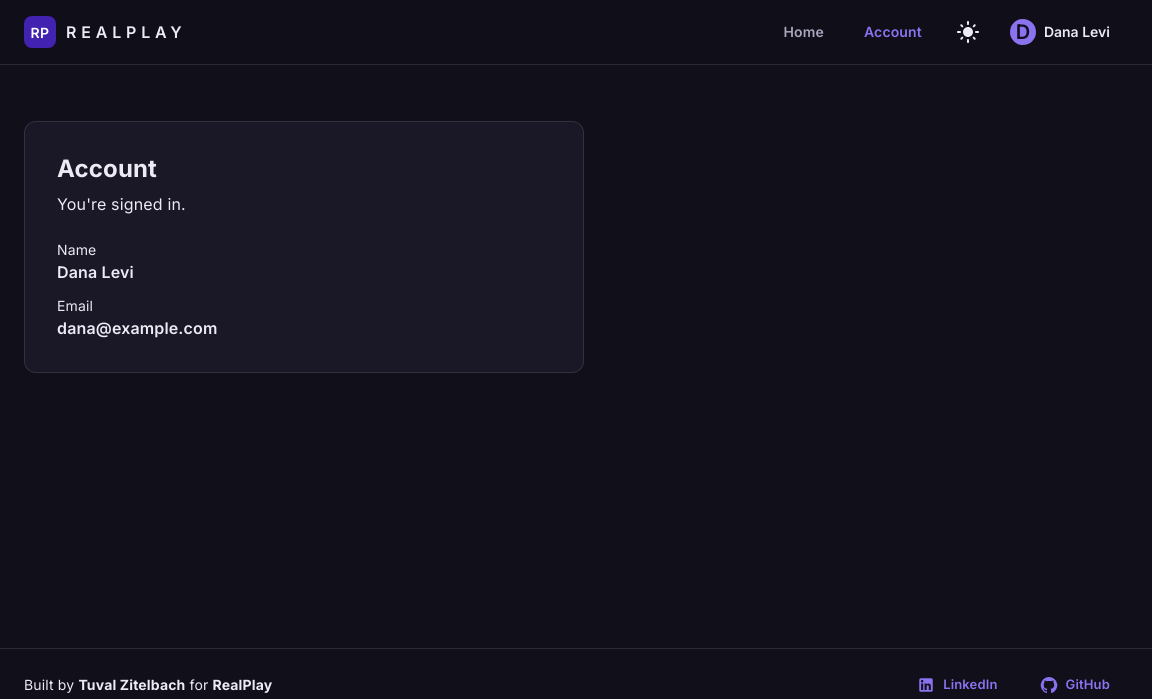
Test: signed in › shows the user in the header and signs out
The width and height of the screenshot is (1152, 699).
Click the button "D Dana Levi": point(1062, 32) [996,13,1128,51]
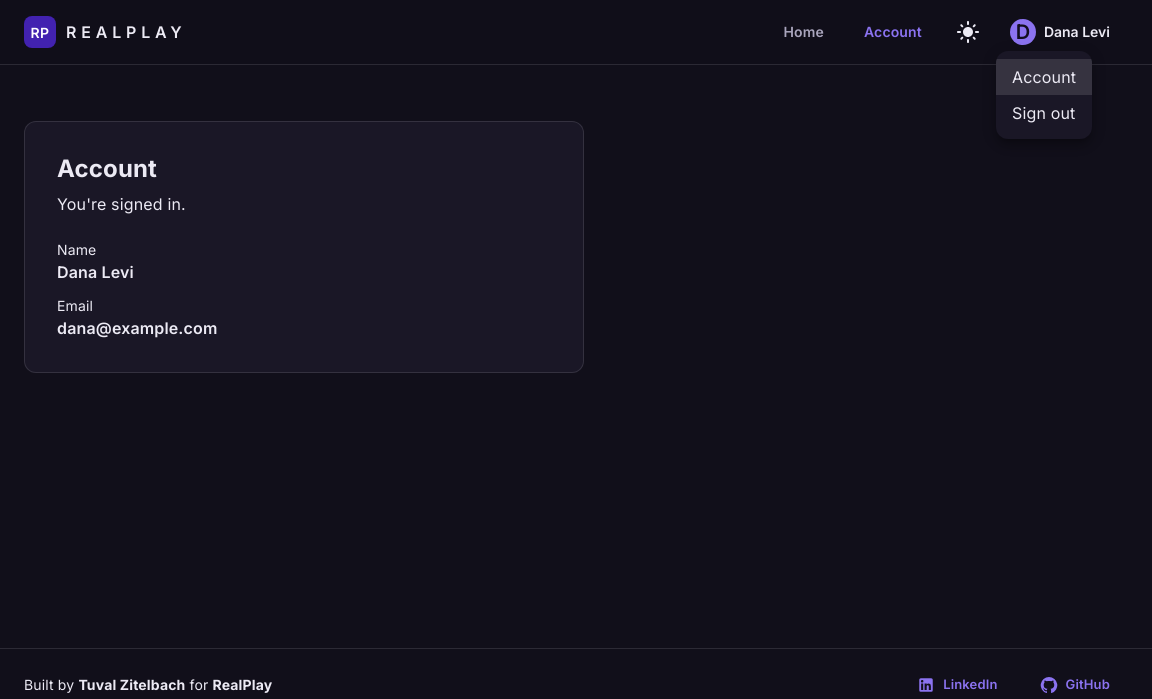
Click the menu item "Sign out": point(1044, 113) [1012,103,1075,123]
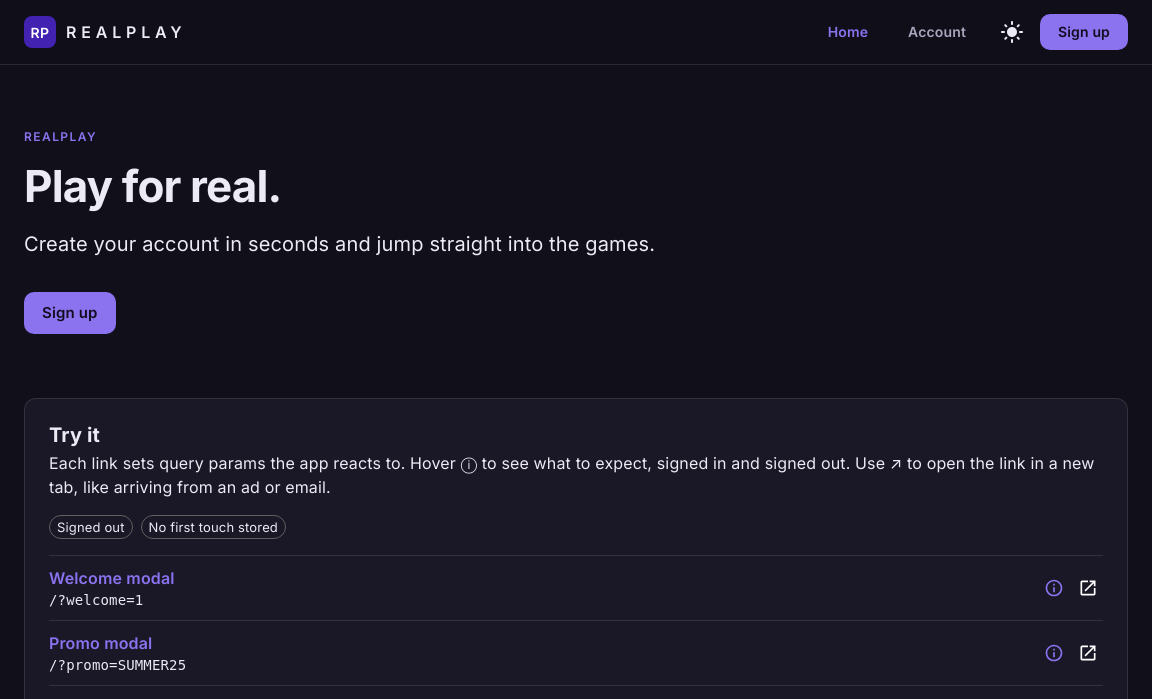
Expected: the link "Sign up" in the row of "Home" is shown, [1040,14,1128,50]
